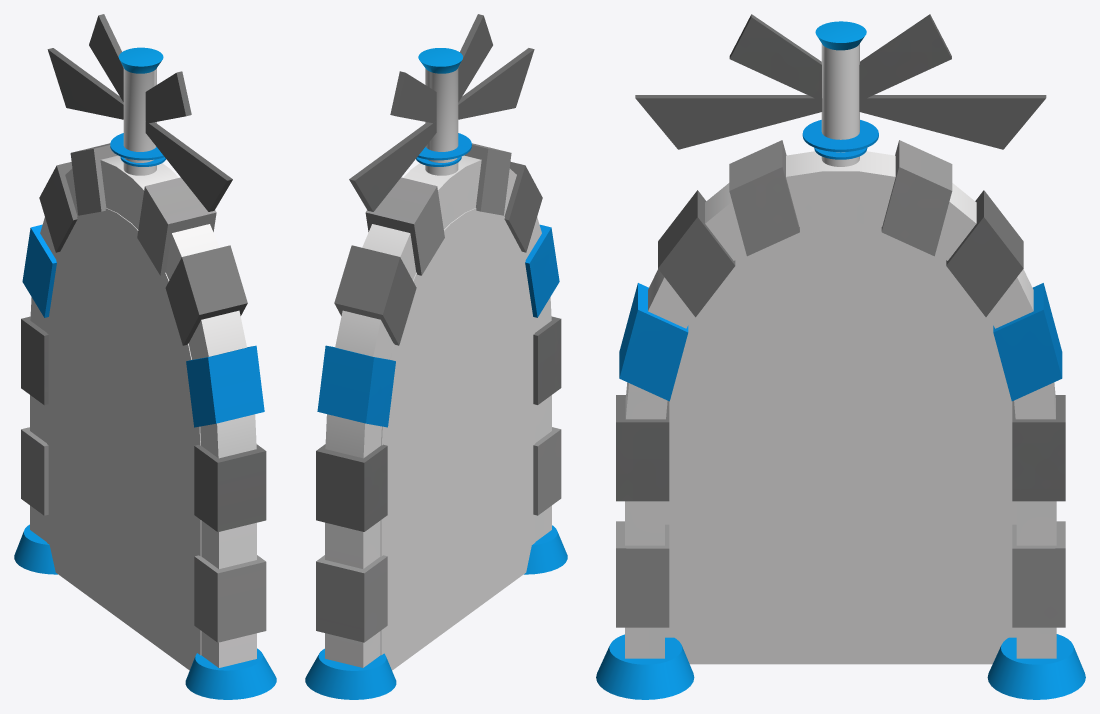
The model's file is portal.fbx.
3 renders of one model, left to right at view 1: azimuth 30°, elevation 25°; view 2: azimuth 150°, elevation 25°; view 3: azimuth 270°, elevation 25°, orthographic. The views are drawn at different scales.
Parts seen in each view (by area): view 1: Cube.015, Cube.013, Cube.014, Cube.012; view 2: Cube.015, Cube.013, Cube.014, Cube.012; view 3: Cube.015, Cube.013, Cube.012, Cube.014.
Boxes of the visible parts, <box> form: Cube.015: <box>47,208,201,670</box>; Cube.013: <box>14,143,276,699</box>; Cube.014: <box>30,155,256,667</box>; Cube.012: <box>47,14,232,211</box>; Cube.015: <box>380,208,535,670</box>; Cube.013: <box>305,143,567,699</box>; Cube.014: <box>325,155,551,667</box>; Cube.012: <box>349,14,534,211</box>; Cube.015: <box>665,223,1016,664</box>; Cube.013: <box>596,140,1085,699</box>; Cube.012: <box>635,14,1046,166</box>; Cube.014: <box>625,151,1056,658</box>.
Size of the model in its own units: 81.56 by 561 by 375.
Materials: 4 (4 with a texture image).
